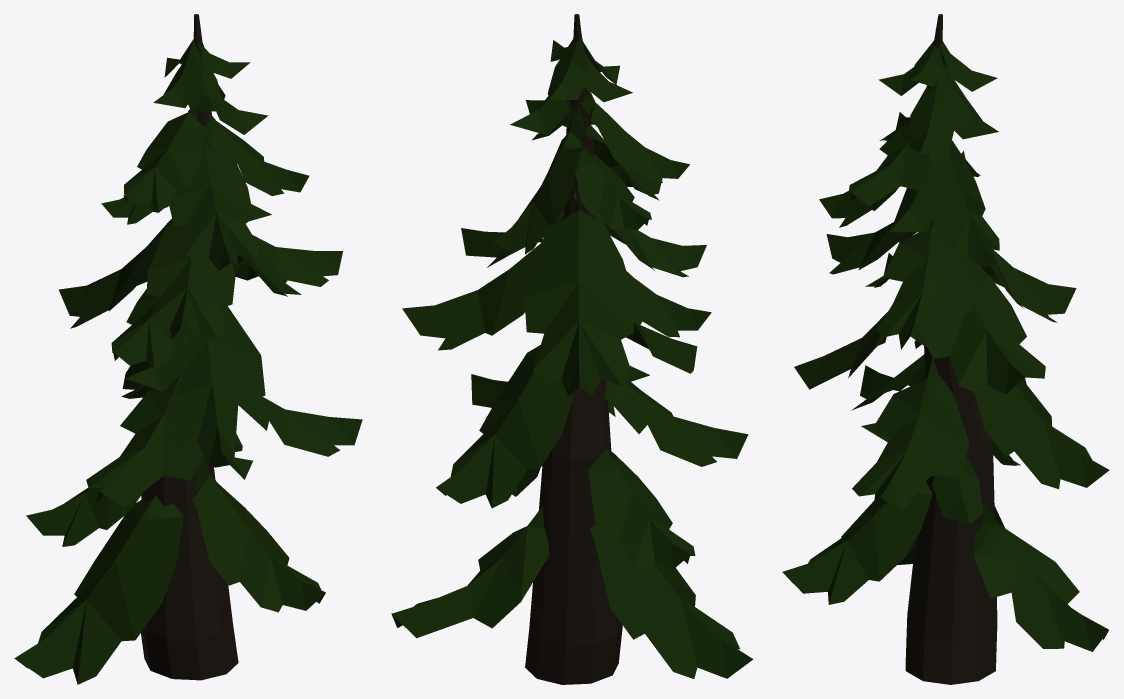
Rendered from elka.obj.
The picture shows the model from 3 angles, left to right: view 1: azimuth 30°, elevation 25°; view 2: azimuth 150°, elevation 25°; view 3: azimuth 270°, elevation 25°; orthographic projection.
Visible parts, largest first — view 1: SM_FreeTree_2; view 2: SM_FreeTree_2; view 3: SM_FreeTree_2.
Boxes of the visible parts, x1,y1,x2,y2 form: SM_FreeTree_2: (14, 14, 362, 684); SM_FreeTree_2: (391, 14, 753, 684); SM_FreeTree_2: (782, 14, 1109, 684).
Bounding box in the file's own units: 521 × 1023 × 467.
